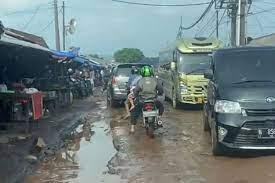Pothole: (28, 108, 143, 183)
